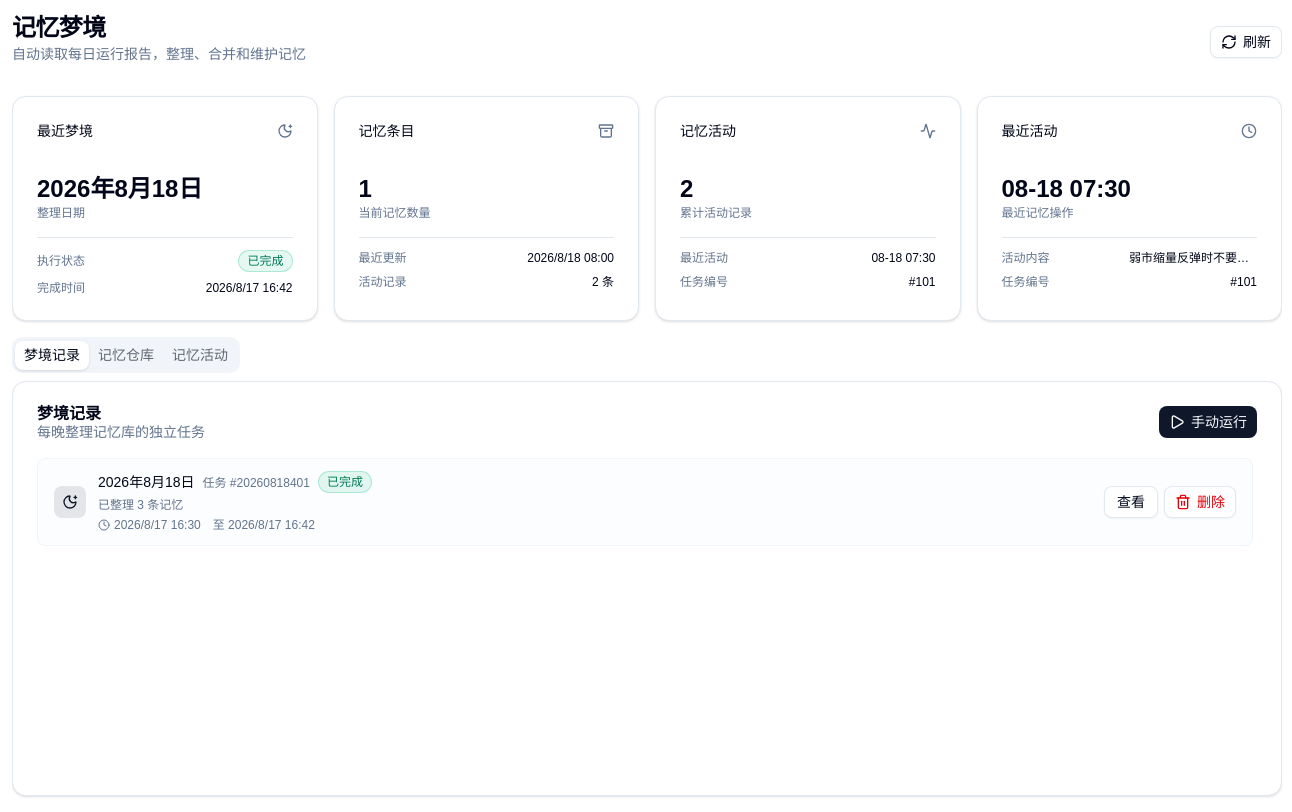
MemoryOverviewPage › renders add memory button
Expected: the heading "记忆梦境" is shown, left=12, top=14, right=106, bottom=41
Step 1. Click the tab "记忆仓库" → (126, 355), box left=89, top=340, right=163, bottom=370
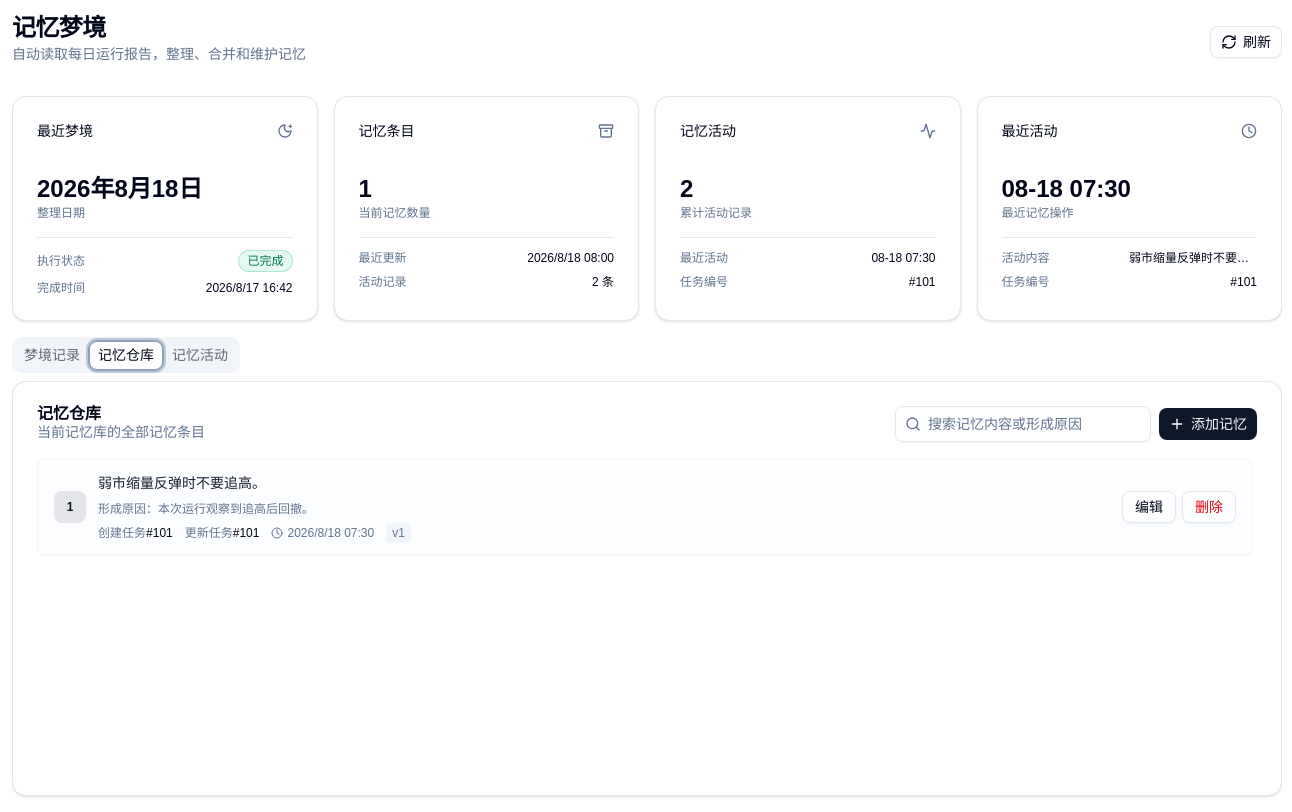
Expected: the button "添加记忆" is shown, left=1159, top=408, right=1257, bottom=440
